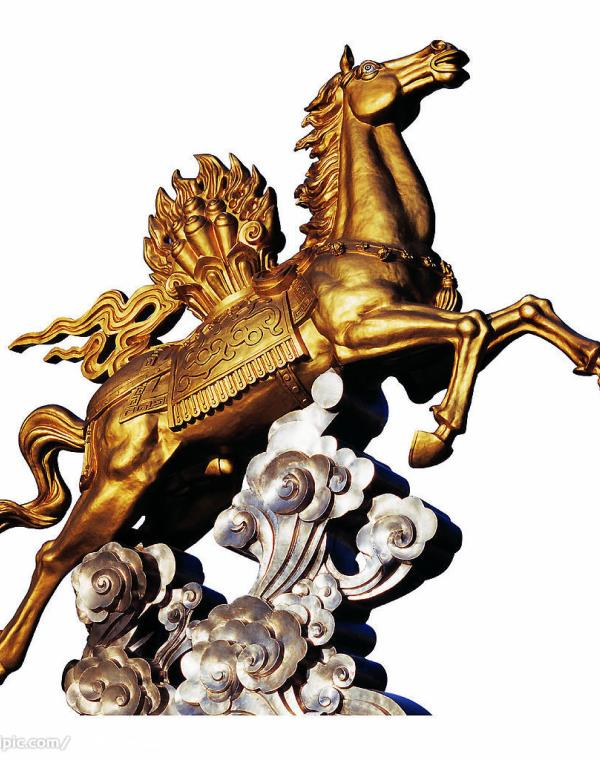background: (1, 37, 524, 665)
